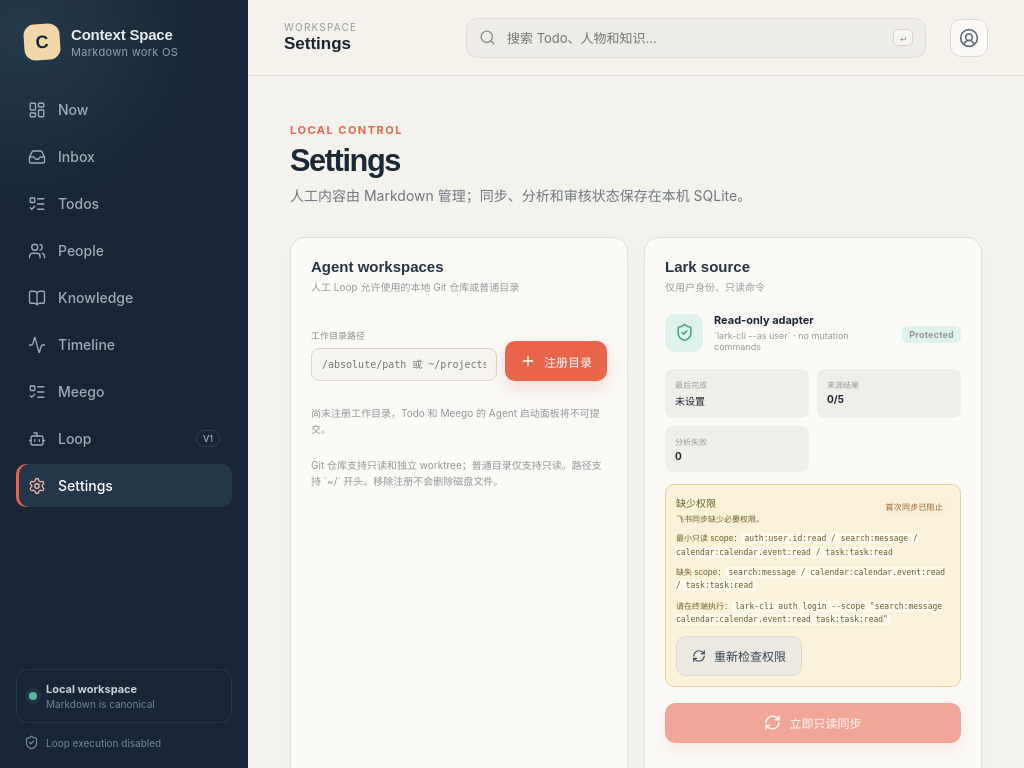
it: Context Space workbench › blocks the first sync and shows the minimal authorization command until permissions are ready
Expected: the text "缺少权限" is shown, [676,497,716,509]
Expected: the text "首次同步已阻止" is shown, [879,498,950,516]
Click the button "重新检查权限".
click(739, 656)  # box [676,636,802,676]
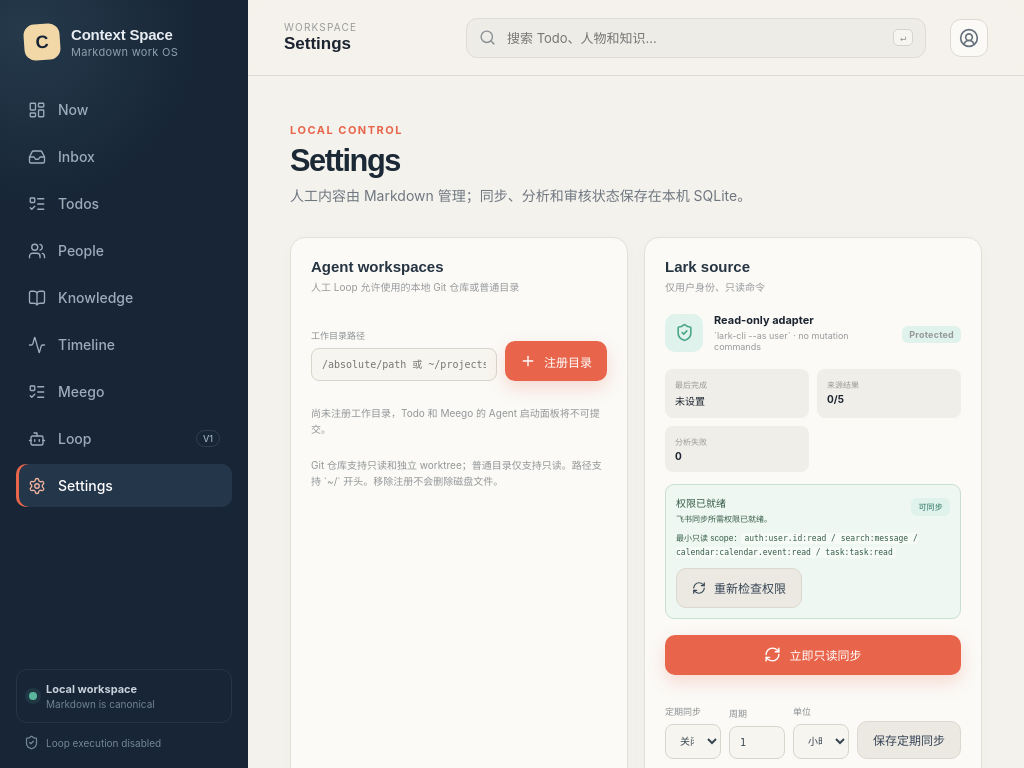
Expected: the text "权限已就绪" is shown, [676,497,726,509]
Expected: the button "立即只读同步" is enabled, [665,635,961,675]
